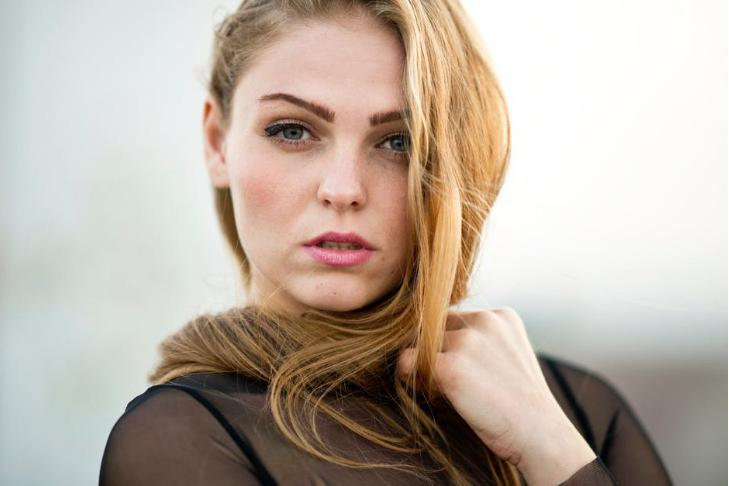face: (228, 19, 432, 313)
